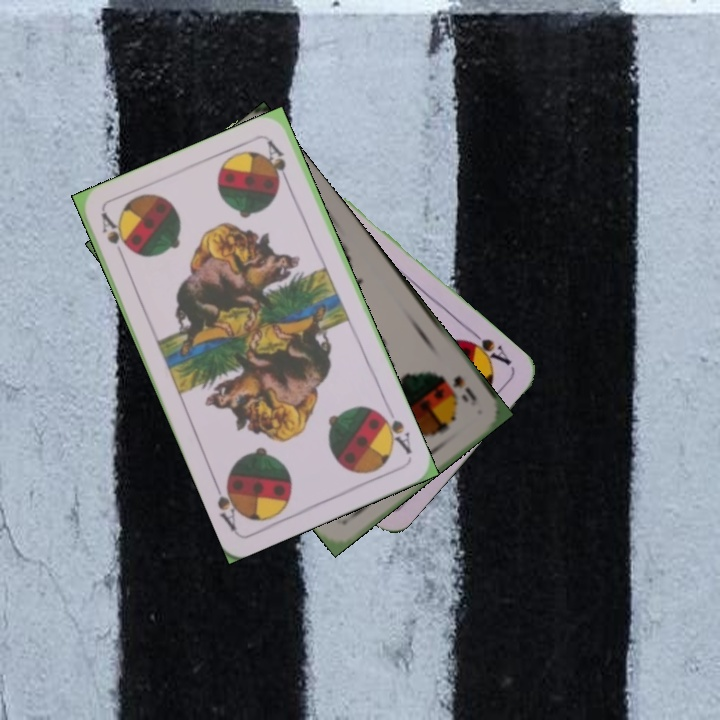SA: (459, 326, 514, 369), (374, 403, 415, 457), (96, 208, 132, 265)
SO: (437, 370, 480, 406)
